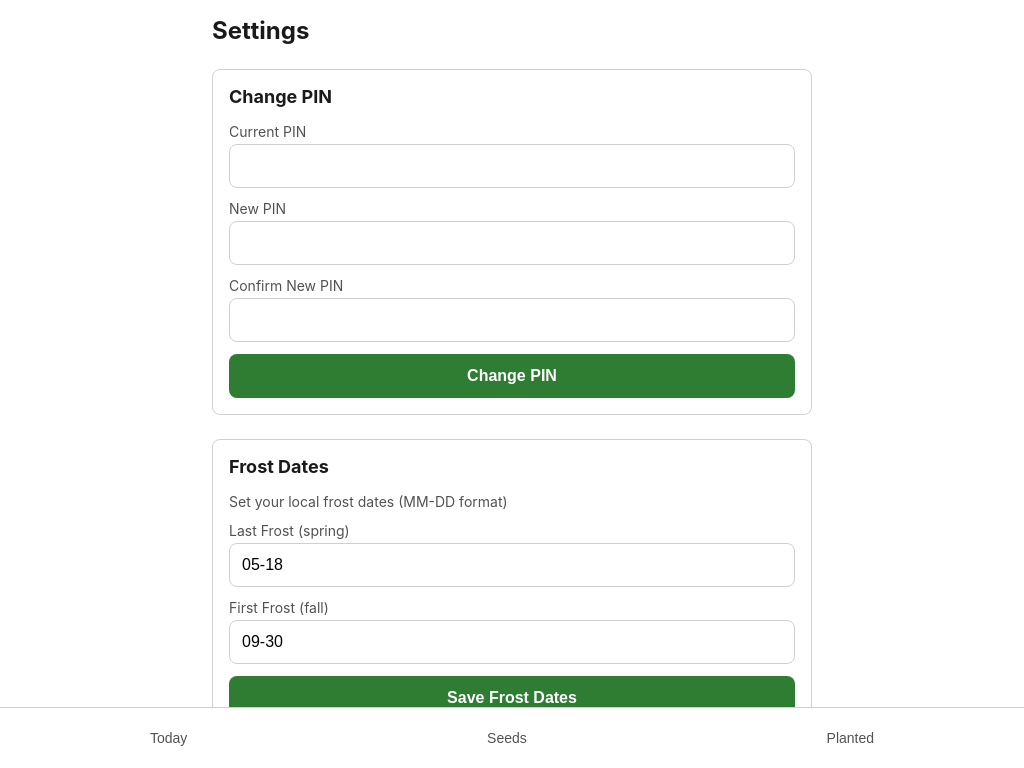
Test case: Settings page › changes PIN successfully
Expected: the heading "Settings" is shown, [212,16,309,45]
Step 1. Type "1701" into the password field labelled "Current PIN" → point(512, 166), box [229,144,795,188]
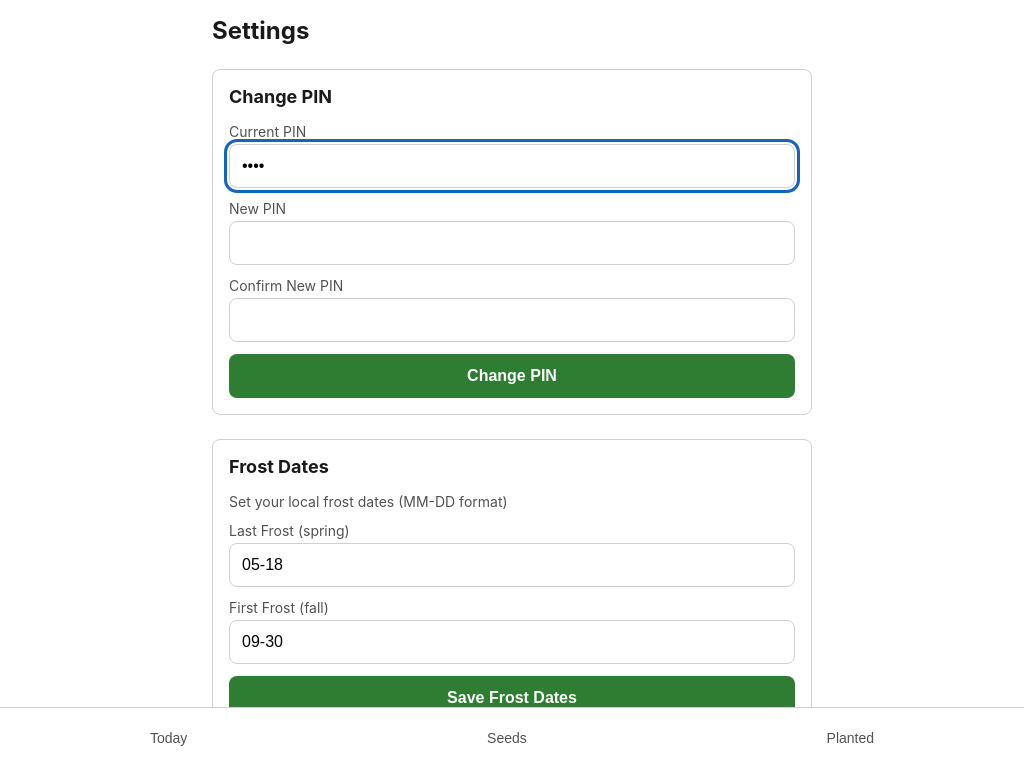
Step 2. Type "9999" into the password field labelled "New PIN" → point(512, 243), box [229,221,795,265]
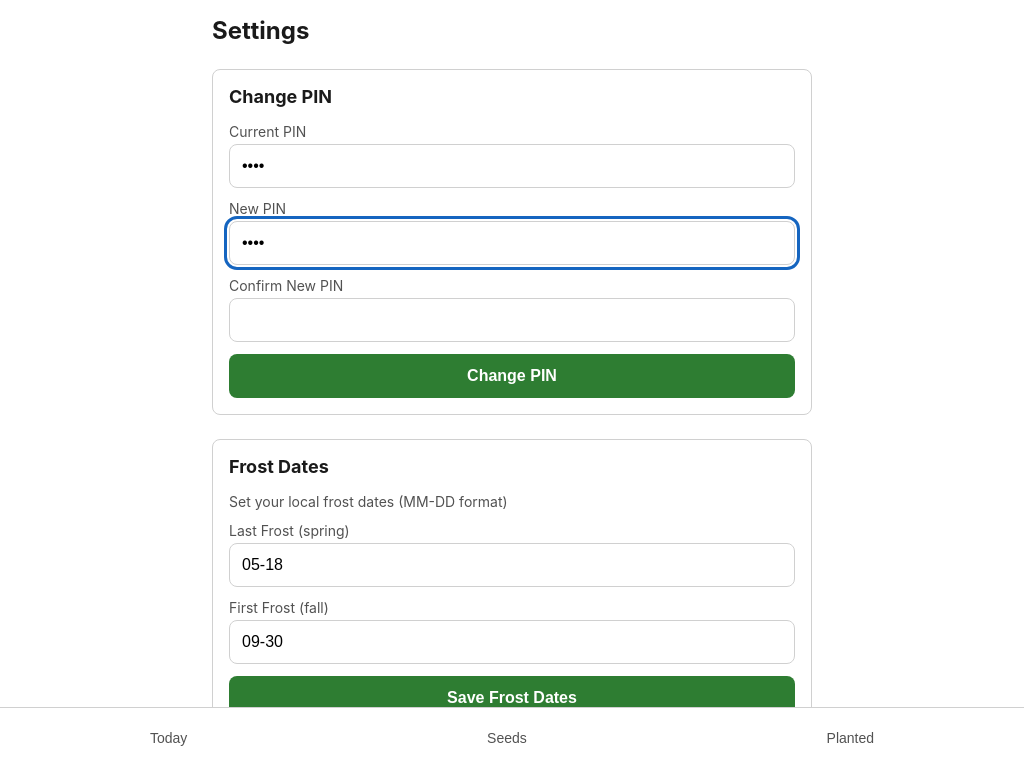
Step 3. Type "9999" into the password field labelled "Confirm New PIN" → point(512, 320), box [229,298,795,342]
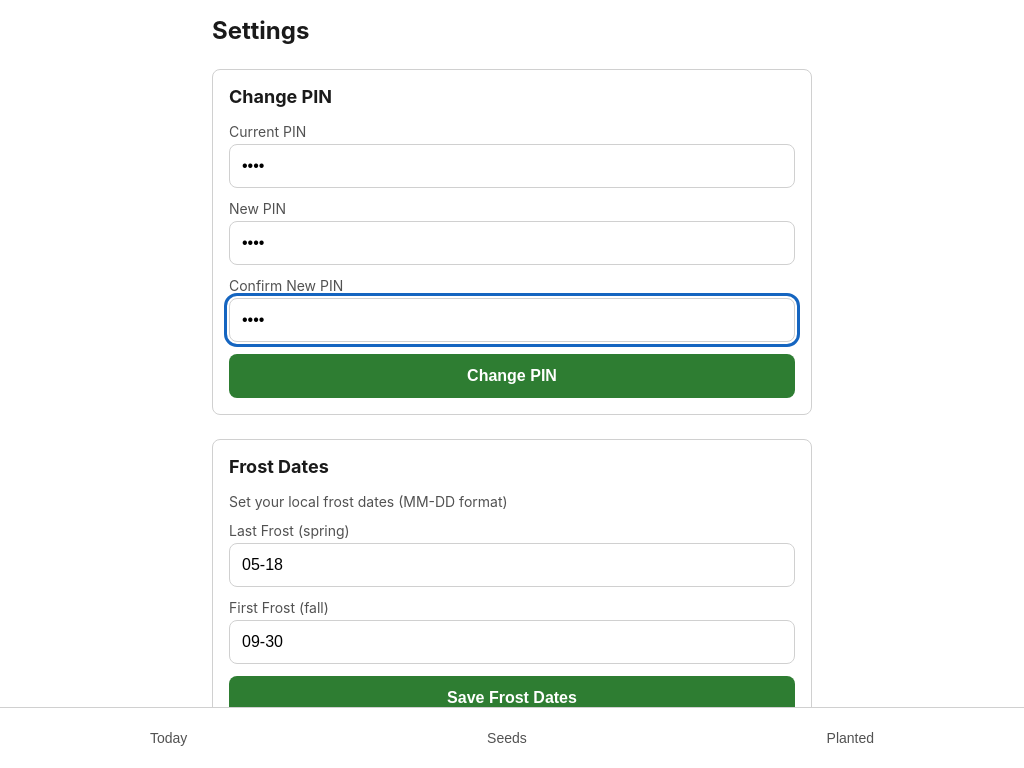
Step 4. Click the button "Change PIN" → point(512, 376), box [229,354,795,398]
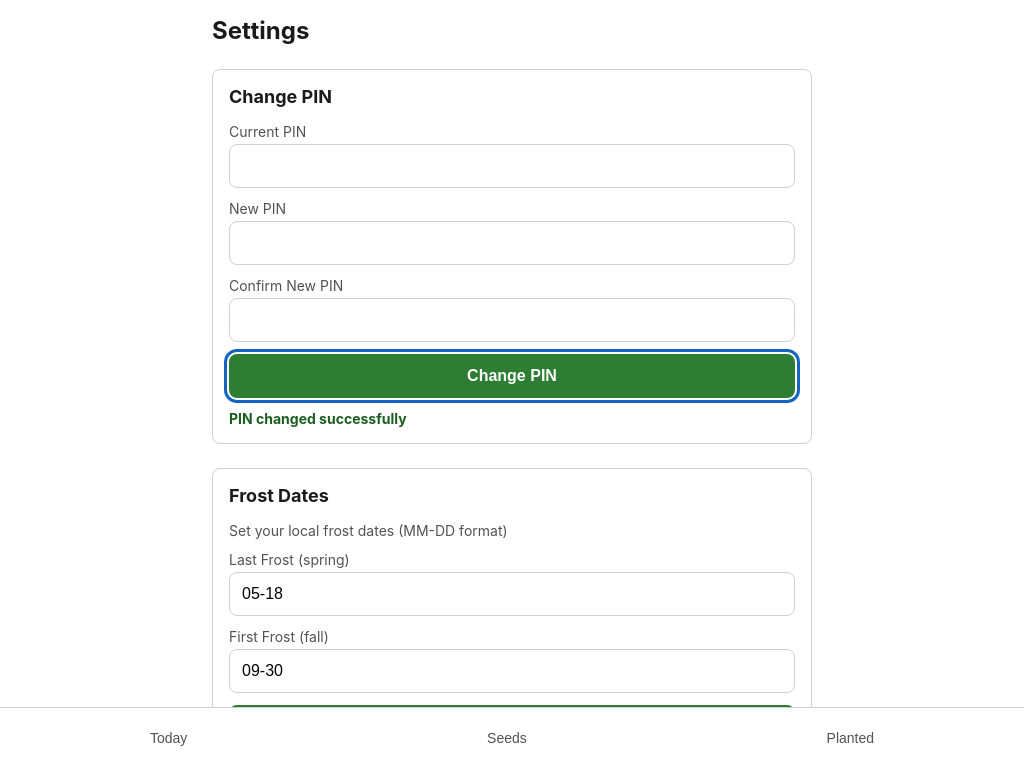
Result: the message reads "PIN changed successfully" at [229,410,407,427]
